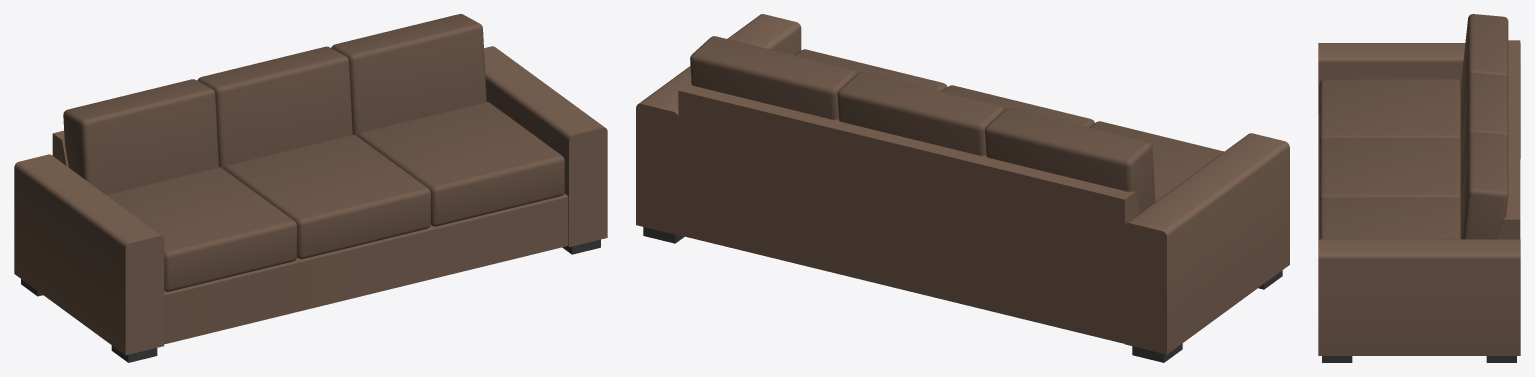
Rendered from Sofa2_C3.fbx.
The picture shows the model from 3 angles, left to right: view 1: azimuth 30°, elevation 25°; view 2: azimuth 150°, elevation 25°; view 3: azimuth 270°, elevation 25°; orthographic projection. The views are drawn at different scales.
Parts seen in each view (by area): view 1: Sofa2_C3; view 2: Sofa2_C3; view 3: Sofa2_C3.
Boxes of the visible parts, x1,y1,x2,y2 form: Sofa2_C3: (14,14,607,362); Sofa2_C3: (636,14,1289,362); Sofa2_C3: (1318,14,1520,362).
Size of the model in its own units: 250 by 85.61 by 100.
